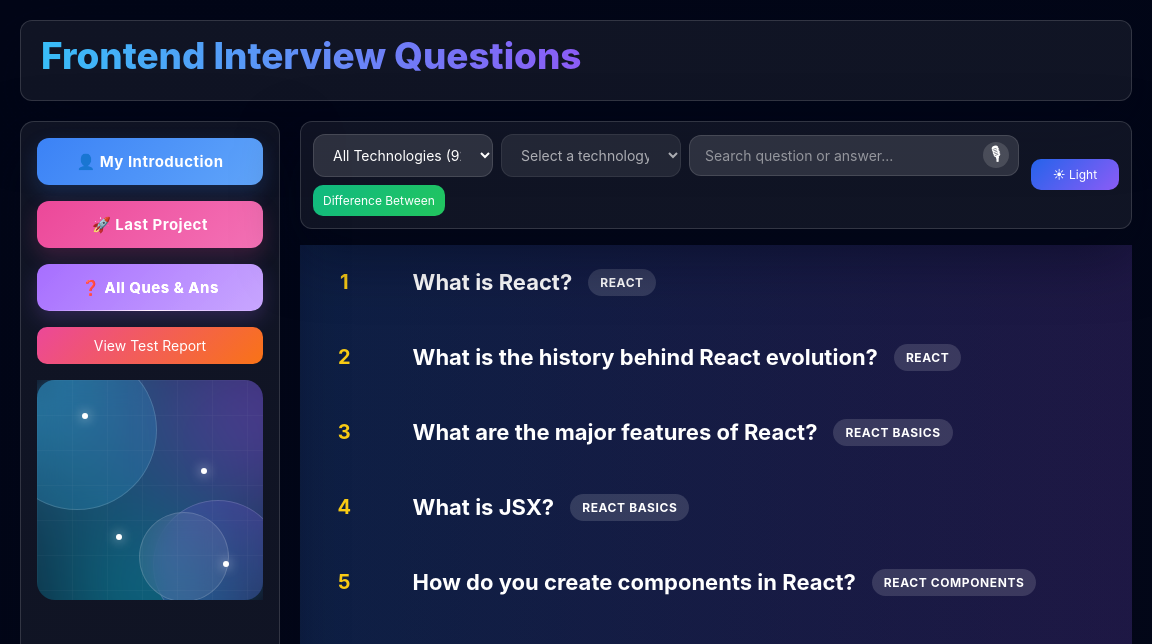
Test: App › toggles theme text when theme button is clicked
Click the button "☀ Light". click: (1075, 175)
box: [1031,159,1119,190]
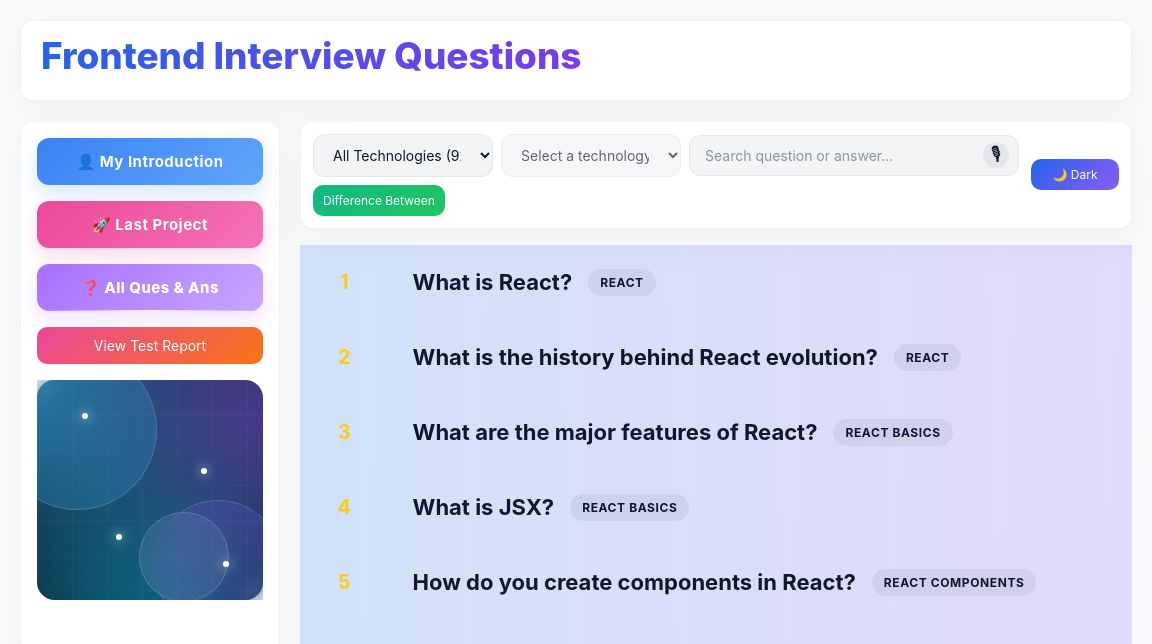
Result: the button "🌙 Dark" is shown at [1031,159,1119,190]
